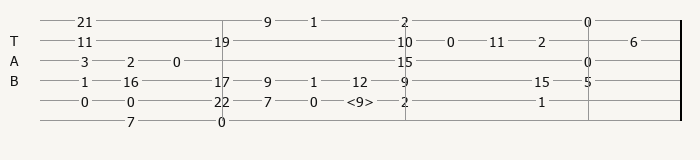0: (81, 93, 93, 107), (127, 93, 139, 107), (173, 53, 185, 67), (218, 113, 230, 127), (310, 93, 322, 107), (447, 33, 459, 47), (584, 53, 596, 67), (584, 13, 596, 27)
1: (81, 73, 93, 87), (310, 73, 322, 87), (310, 13, 322, 27), (538, 93, 550, 107)
10: (397, 33, 417, 47)
11: (77, 33, 97, 47), (489, 33, 509, 47)
12: (352, 73, 372, 87)
15: (397, 53, 417, 67), (534, 73, 554, 87)
16: (123, 73, 143, 87)
17: (214, 73, 234, 87)
19: (214, 33, 234, 47)
2: (127, 53, 139, 67), (401, 13, 413, 27), (401, 93, 413, 107), (538, 33, 550, 47)
21: (77, 13, 97, 27)
22: (214, 93, 234, 107)
3: (81, 53, 93, 67)
5: (584, 73, 596, 87)
6: (630, 33, 642, 47)
7: (127, 113, 139, 127), (264, 93, 276, 107)
9: (264, 73, 276, 87), (264, 13, 276, 27), (401, 73, 413, 87)
harmonic: (346, 93, 378, 107)
